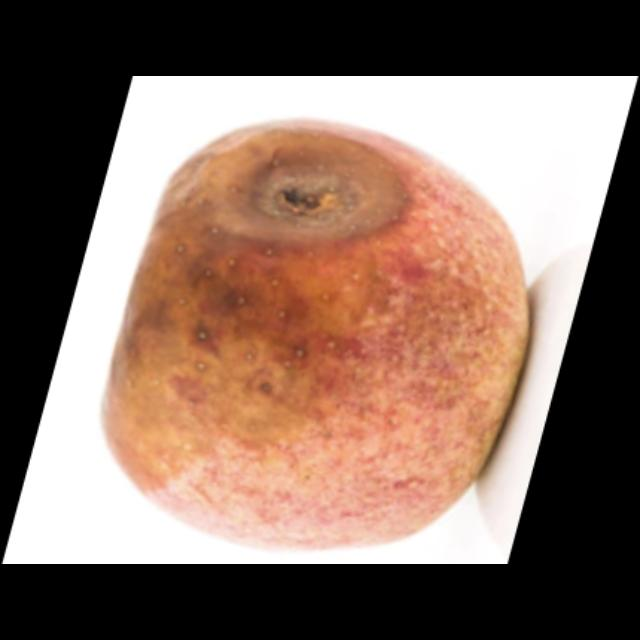Apel Tidak Segar: (94, 110, 536, 556)
